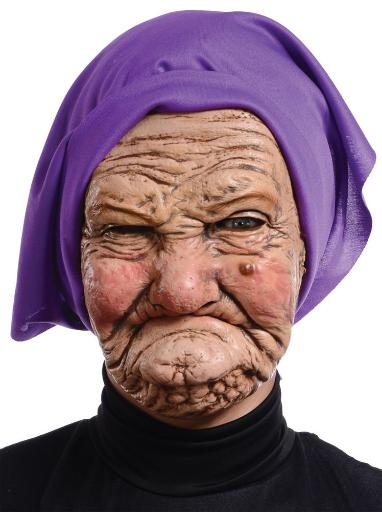left_eye: (223, 214, 270, 234)
left_lip_corner: (230, 318, 247, 334)
right_eye: (101, 222, 154, 241)
right_lip_corner: (136, 316, 154, 334)
